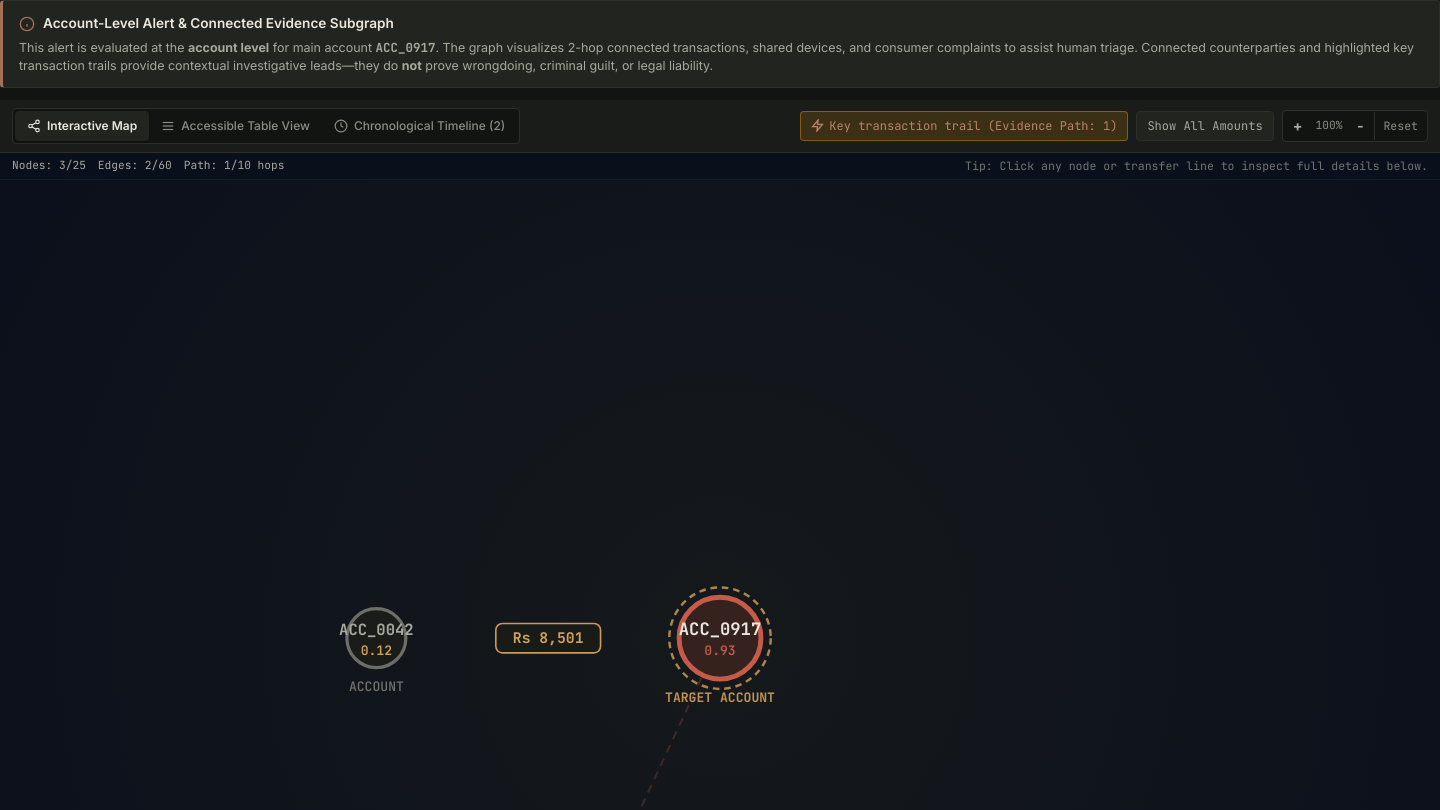
Test case: EvidenceGraphCanvas Component › switches to Chronological Timeline and displays sorted events with key trail badges
What coordinates should you click on to do the following:
click the tab with test id "tab-timeline-view"
I would click on:
 (420, 126)
Its box is [322,111,517,141].
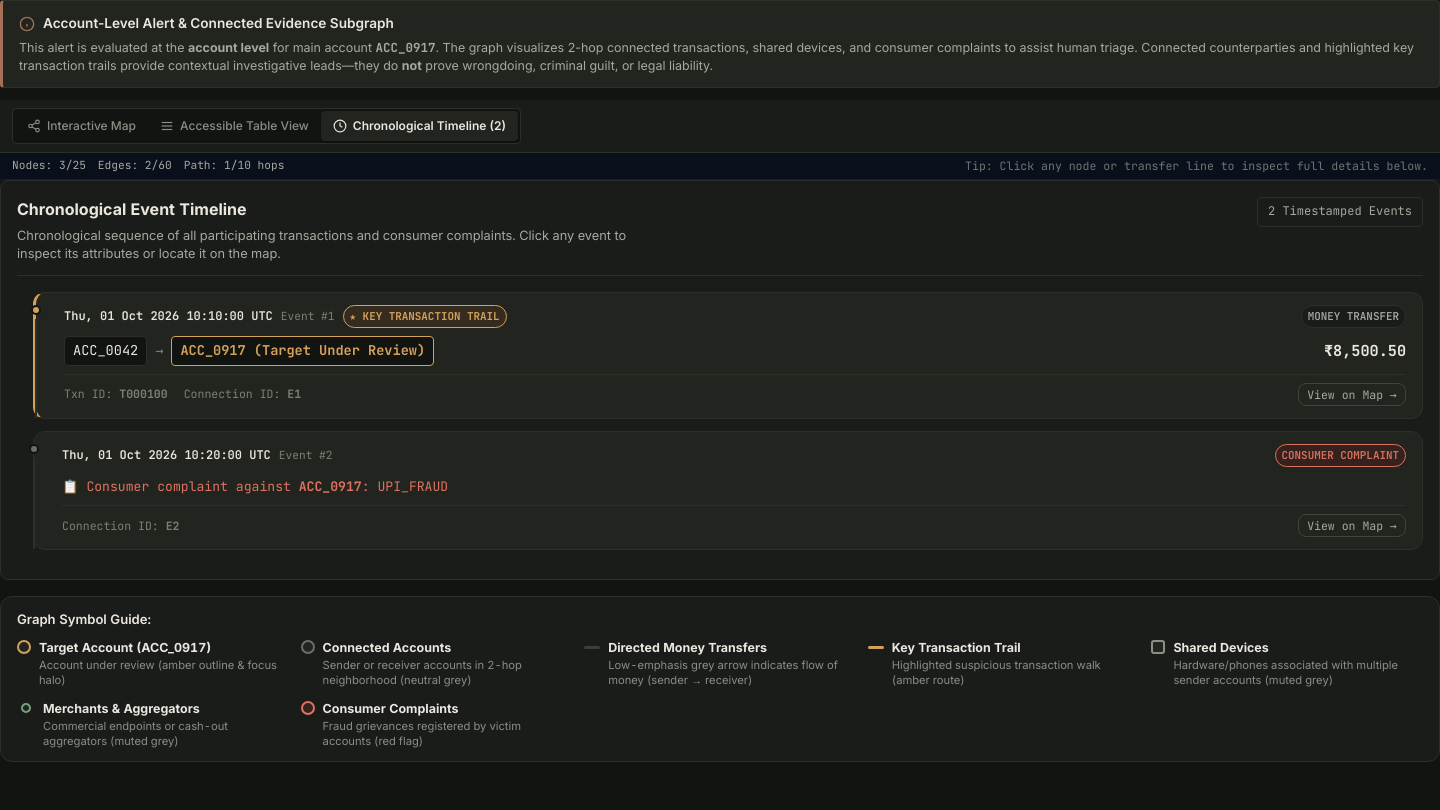
Result: the heading "Chronological Event Timeline" is shown at [17,199,247,219]
Result: the text "2 Timestamped Events" is shown at [1257,197,1423,227]
Result: the text "MONEY TRANSFER" is shown at [1301,305,1406,328]
Click event to select it and test drawer synchronization
What coordinates should you click on to do the following:
click the element with test id "timeline-event-E1"
I would click on:
 (728, 355)
Its box is [33,292,1423,419].
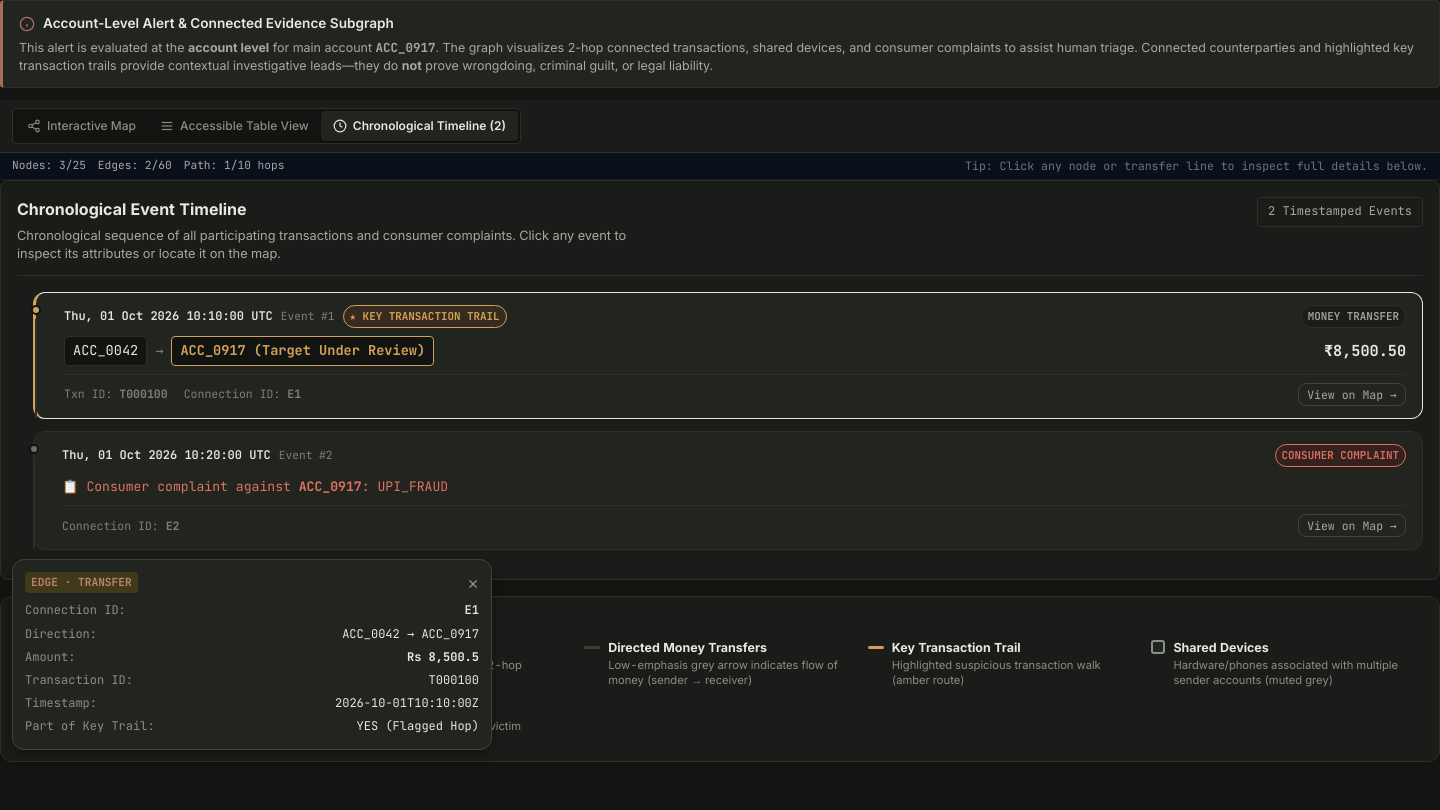
Result: the element named "Selected Element Details" is shown at [12,558,492,750]
Result: the text "EDGE · TRANSFER" is shown at [25,572,138,593]
